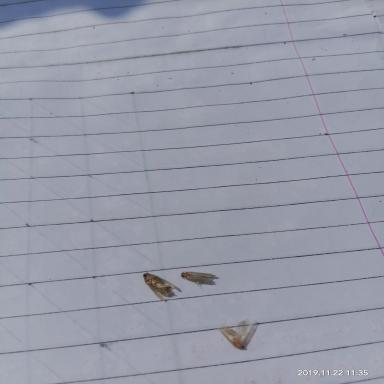pbw: (216, 318, 258, 350), (142, 271, 183, 301), (180, 268, 219, 289)
